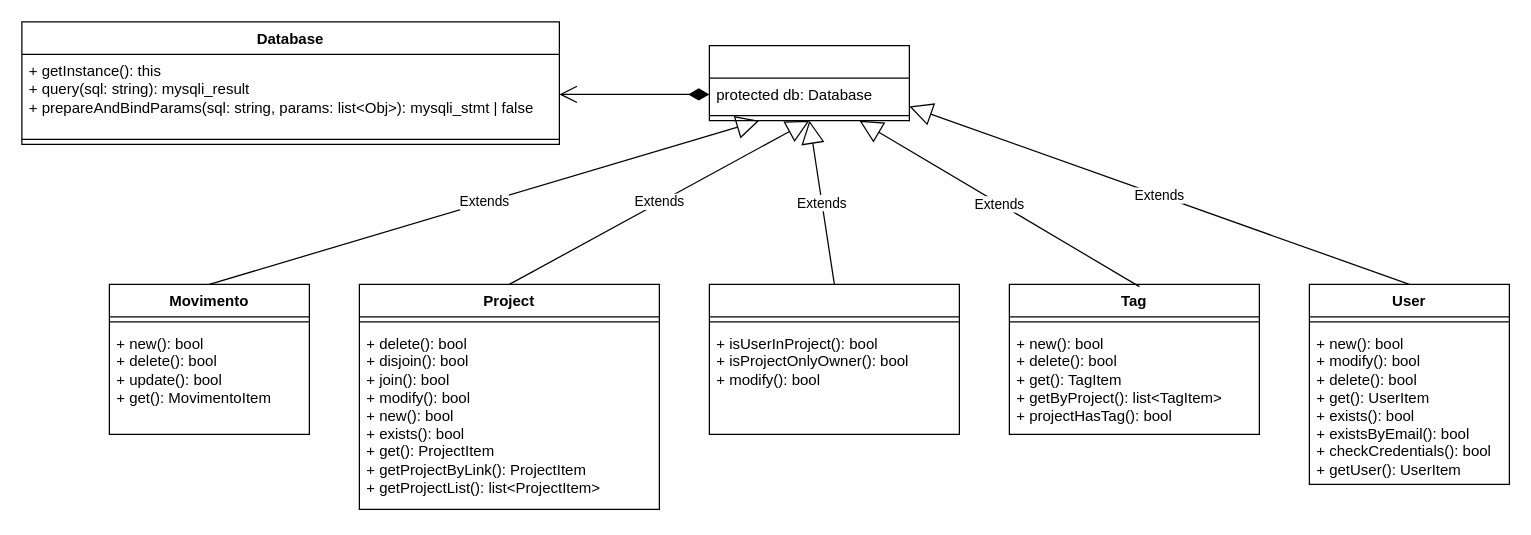
Some shapes in this 1531 by 535 pixel diagram are drawn without their labels. Here are the shapes that lost their labels. From the top down, the box of each, then its label:
(708, 44, 909, 121): DatabaseManager
(708, 283, 959, 434): UserProject
